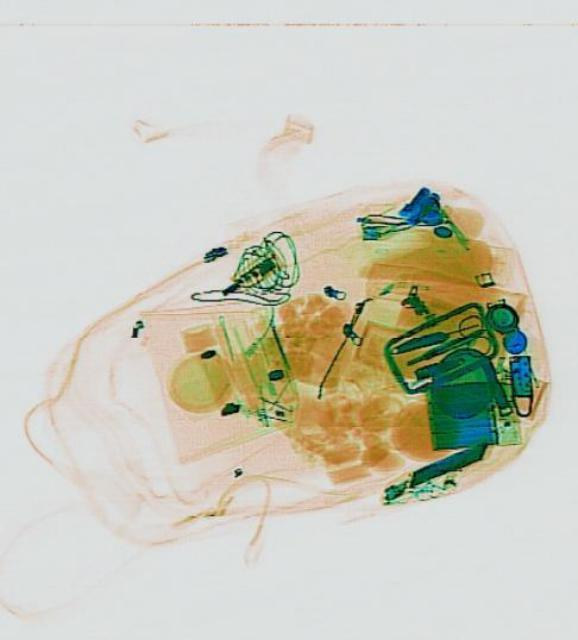Scissors: (395, 310, 492, 382)
